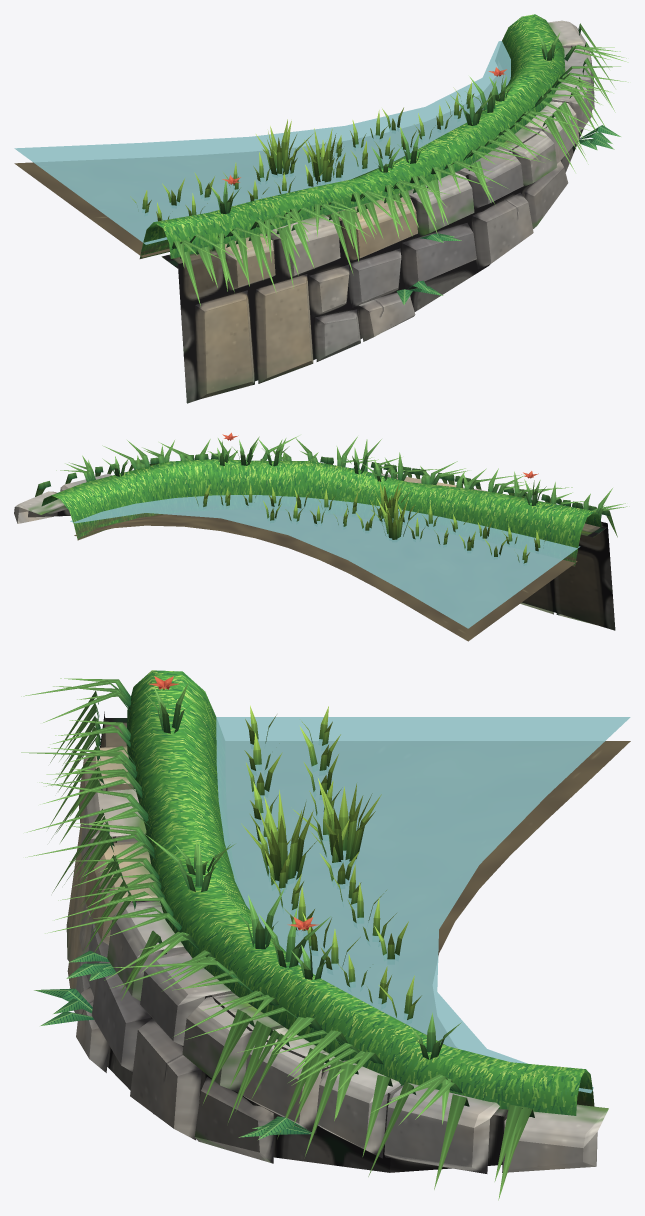
Rendered from terrace_cap_flooded.glb.
The picture shows the model from 3 angles, top to bottom: view 1: azimuth 30°, elevation 25°; view 2: azimuth 150°, elevation 25°; view 3: azimuth 270°, elevation 25°; orthographic projection. The views are drawn at different scales.
Parts seen in each view (by area): view 1: terrace_cap_flooded_wall, terrace_cap_flooded_water, terrace_cap_flooded_plants, terrace_cap_flooded_dike; view 2: terrace_cap_flooded_dike, terrace_cap_flooded_water, terrace_cap_flooded_plants, terrace_cap_flooded_wall; view 3: terrace_cap_flooded_water, terrace_cap_flooded_wall, terrace_cap_flooded_dike, terrace_cap_flooded_plants.
Boxes of the visible parts, left/top/right/bottom form: terrace_cap_flooded_wall: left=161, top=20, right=594, bottom=403; terrace_cap_flooded_water: left=14, top=41, right=510, bottom=244; terrace_cap_flooded_plants: left=130, top=23, right=628, bottom=306; terrace_cap_flooded_dike: left=14, top=14, right=565, bottom=258; terrace_cap_flooded_dike: left=41, top=459, right=601, bottom=641; terrace_cap_flooded_water: left=70, top=495, right=580, bottom=628; terrace_cap_flooded_plants: left=35, top=432, right=629, bottom=563; terrace_cap_flooded_wall: left=14, top=473, right=615, bottom=630; terrace_cap_flooded_water: left=216, top=717, right=630, bottom=1093; terrace_cap_flooded_wall: left=66, top=711, right=608, bottom=1173; terrace_cap_flooded_dike: left=126, top=670, right=630, bottom=1115; terrace_cap_flooded_plants: left=21, top=676, right=534, bottom=1200.
Size of the model in its own units: 5.13 by 1.62 by 3.01.
Materials: 4 (3 with a texture image).
